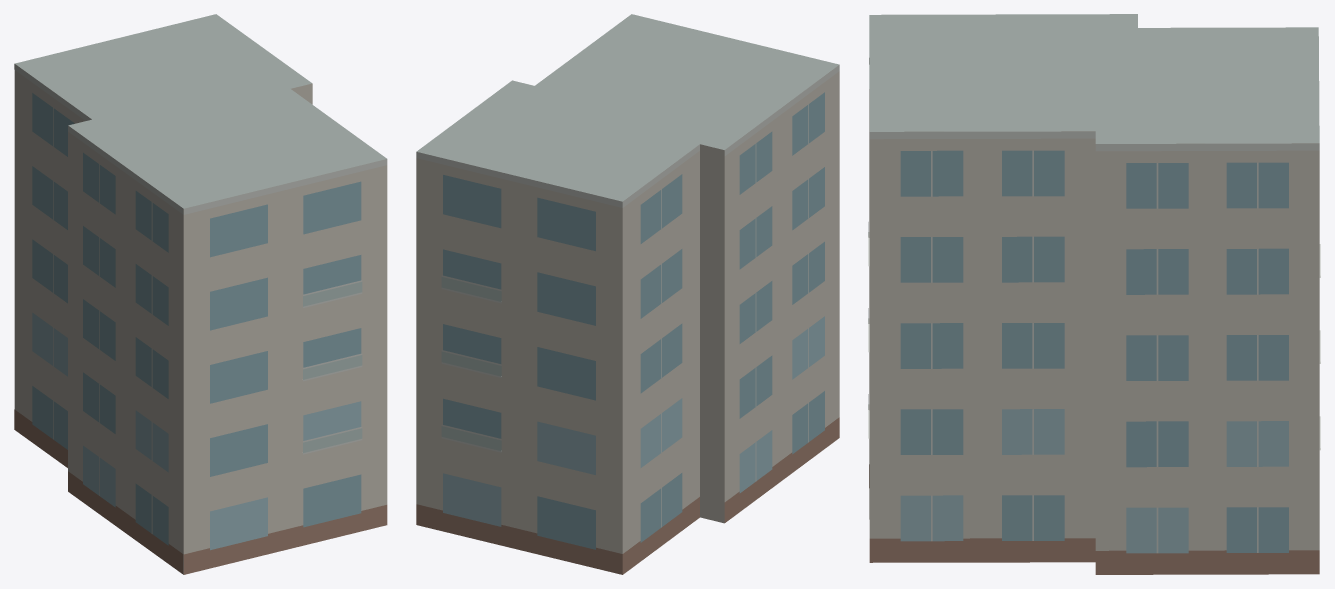
The model's file is survey-upis-32610844.glb.
3 renders of one model, left to right at view 1: azimuth 30°, elevation 25°; view 2: azimuth 150°, elevation 25°; view 3: azimuth 270°, elevation 25°, orthographic. The views are drawn at different scales.
Visible parts, largest first — view 1: survey-upis-32610844.tmp; view 2: survey-upis-32610844.tmp; view 3: survey-upis-32610844.tmp.
Boxes of the visible parts, left/top/right/bottom form: survey-upis-32610844.tmp: left=14, top=14, right=387, bottom=574; survey-upis-32610844.tmp: left=416, top=14, right=839, bottom=574; survey-upis-32610844.tmp: left=868, top=14, right=1320, bottom=574.
Bounding box in the file's own units: 9.3 × 14.35 × 13.67.
